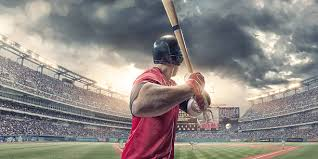baseball bat: (157, 1, 215, 122)
